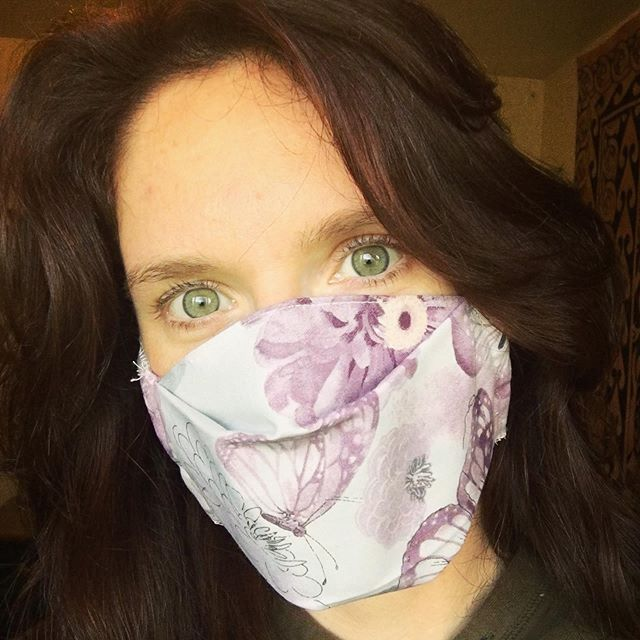homemade: (123, 290, 522, 602)
